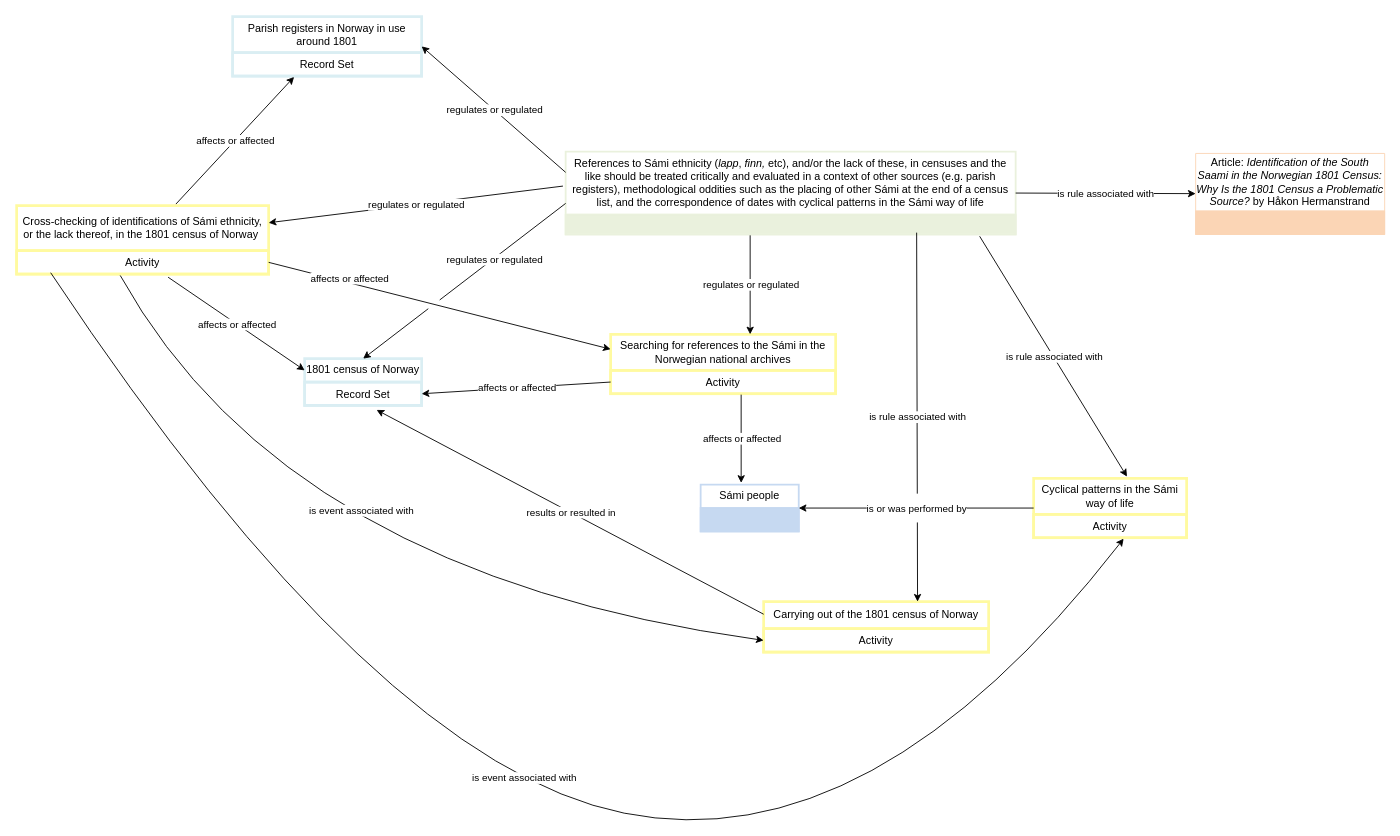
Image size: 1400x836. Some labels were removed from this diagram. Here are the shapes that lost their labels. From the top down, the centre of each, then its label:
pixel 790 224: Rule
pixel 1290 222: Thing
pixel 749 519: Group
